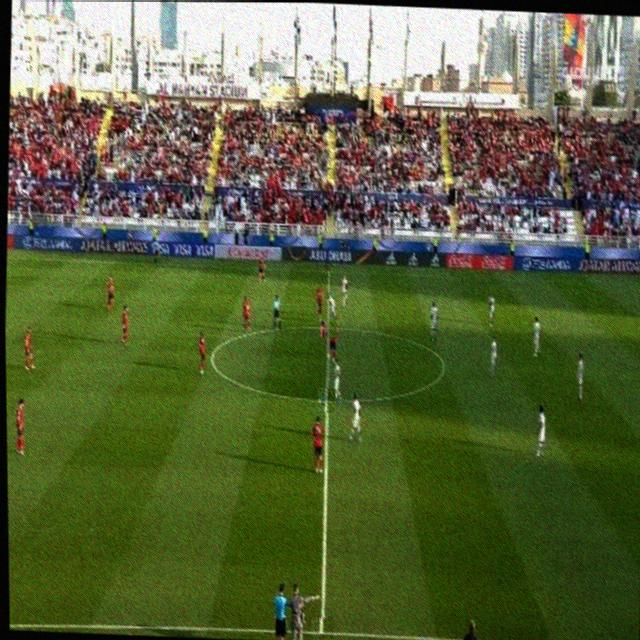halfcircle_bottom: (317, 387, 335, 412)
halfcircle_top: (318, 318, 336, 337)
midline_bottom_intersection: (309, 617, 333, 640)
midline_top_intersection: (319, 260, 333, 275)
